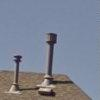Chimney: (36, 21, 60, 83)
